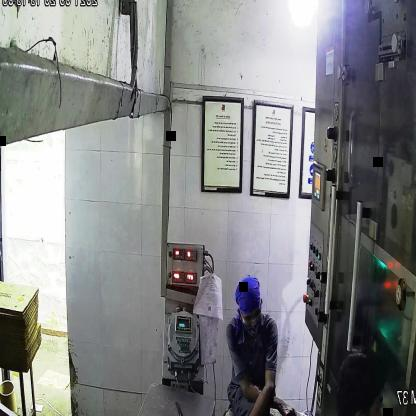goggles: (237, 305, 263, 329)
